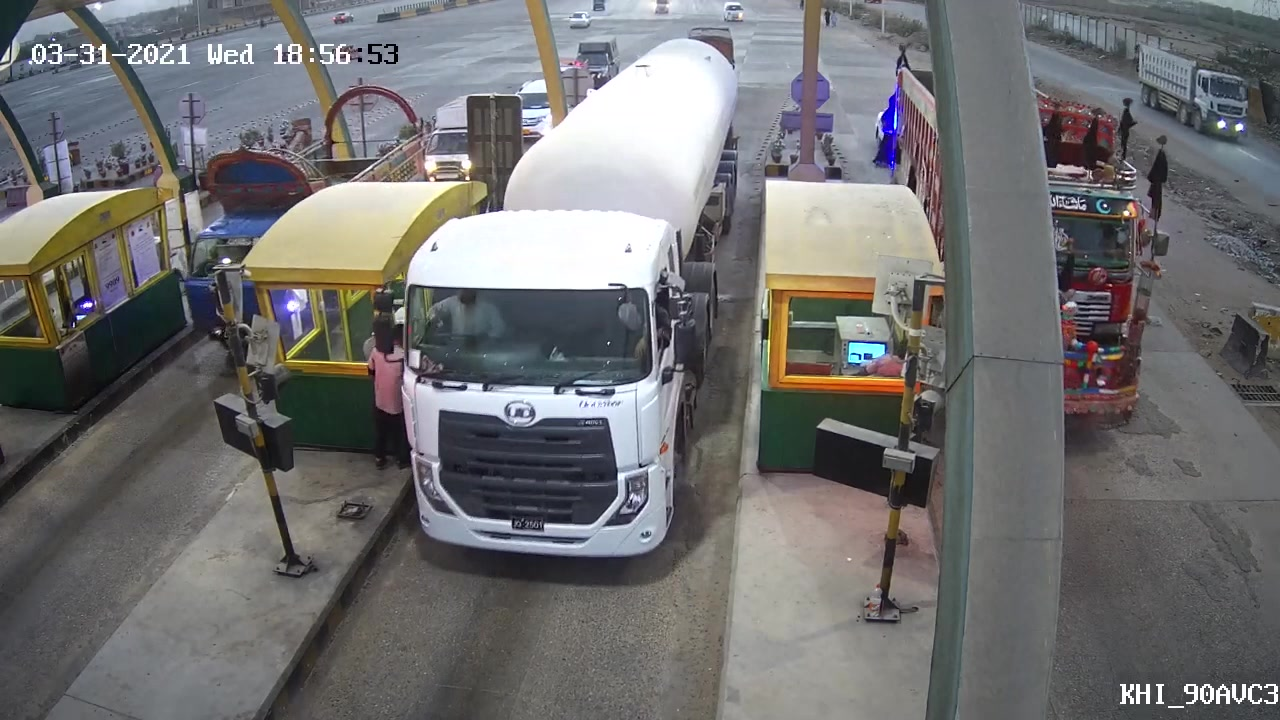F6: (373, 145, 715, 558)
